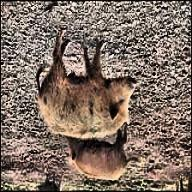boar: (38, 38, 151, 148), (61, 127, 137, 189)
